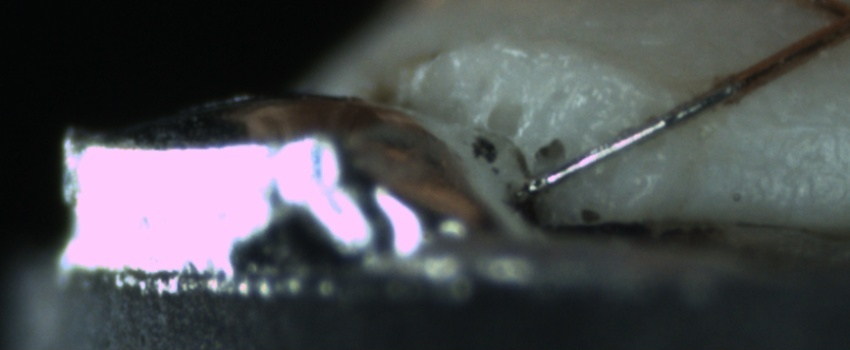CL: (808, 2, 850, 43)
DL: (735, 103, 850, 148)
TS: (532, 82, 737, 193)
